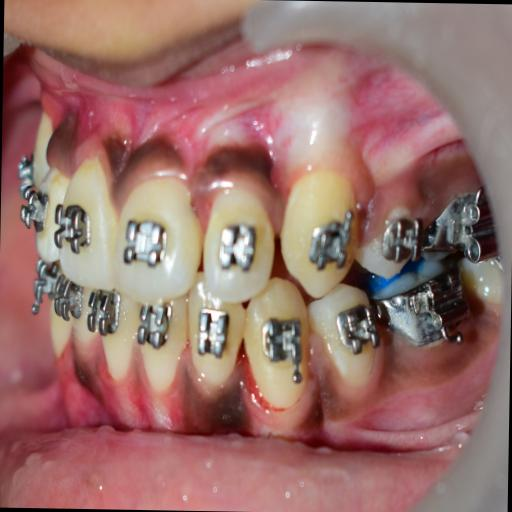correct_brace: (278, 160, 364, 300), (238, 275, 316, 428), (254, 313, 308, 386), (115, 212, 175, 271), (212, 217, 262, 278)
incorrect_brace: (112, 156, 202, 312), (306, 204, 358, 276)
